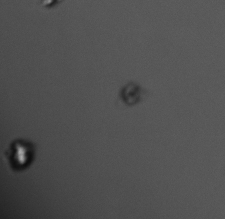Dead Cell: (120, 82, 143, 105)
Living Cell: (5, 138, 37, 172)
